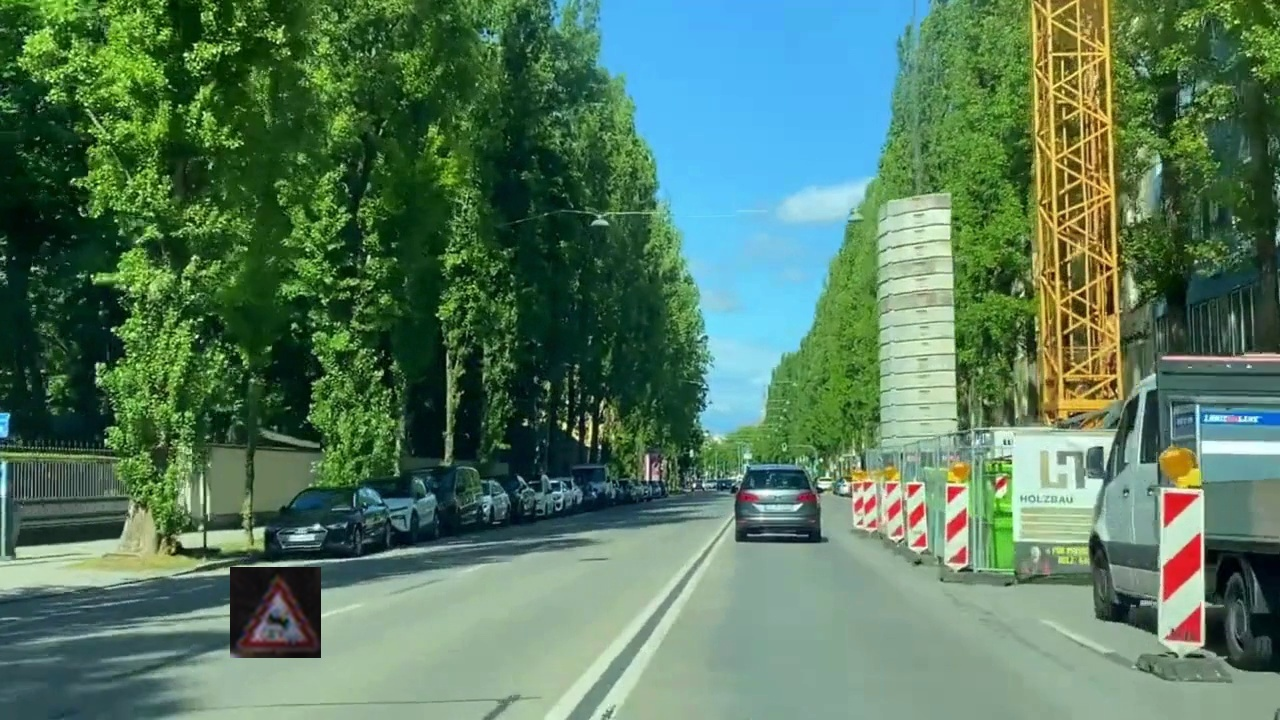Slippery: (230, 567, 321, 658)
